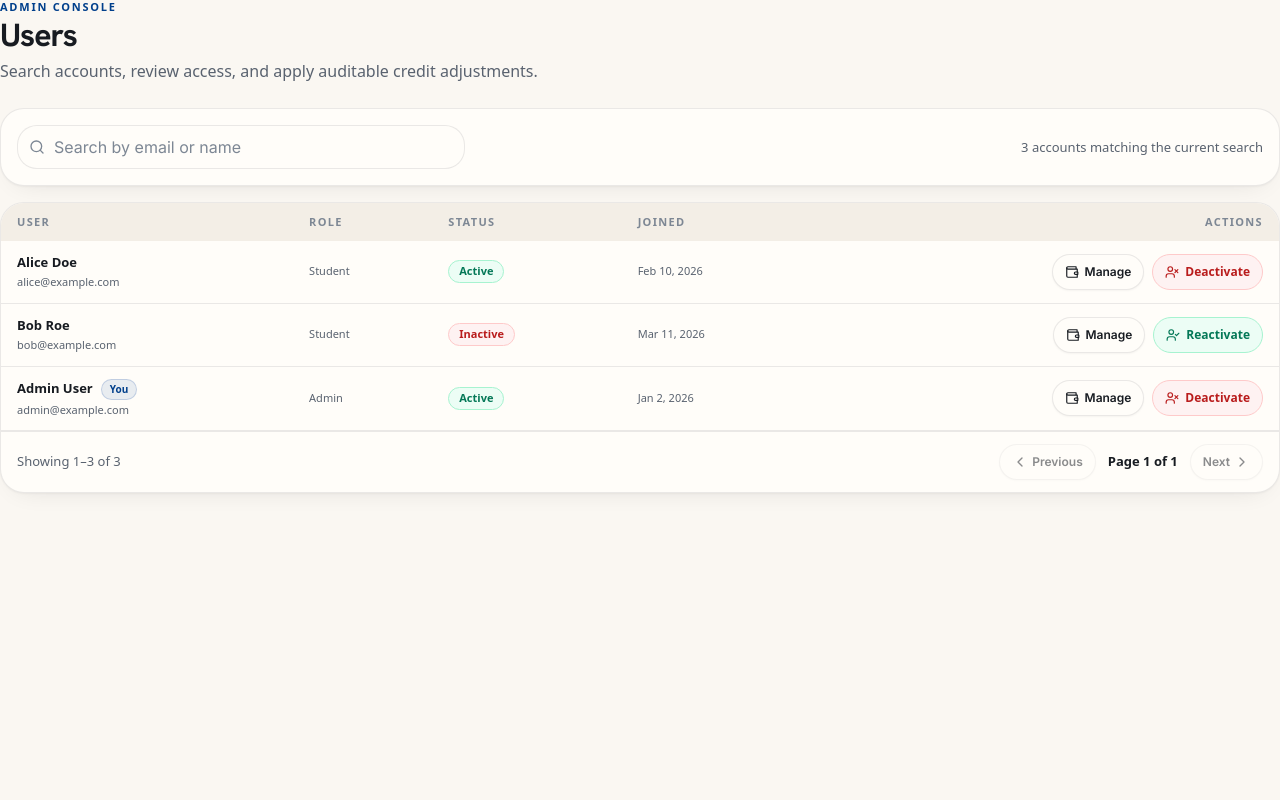
Scenario: AdminUsersPage › shows a toast when the backend rejects self-deactivation
Expected: the text "Admin User" is shown, 17,379 -> 93,399
Click the button with aria-label "deactivate admin@example.com" at (1208, 398), box 1152,380 -> 1263,416
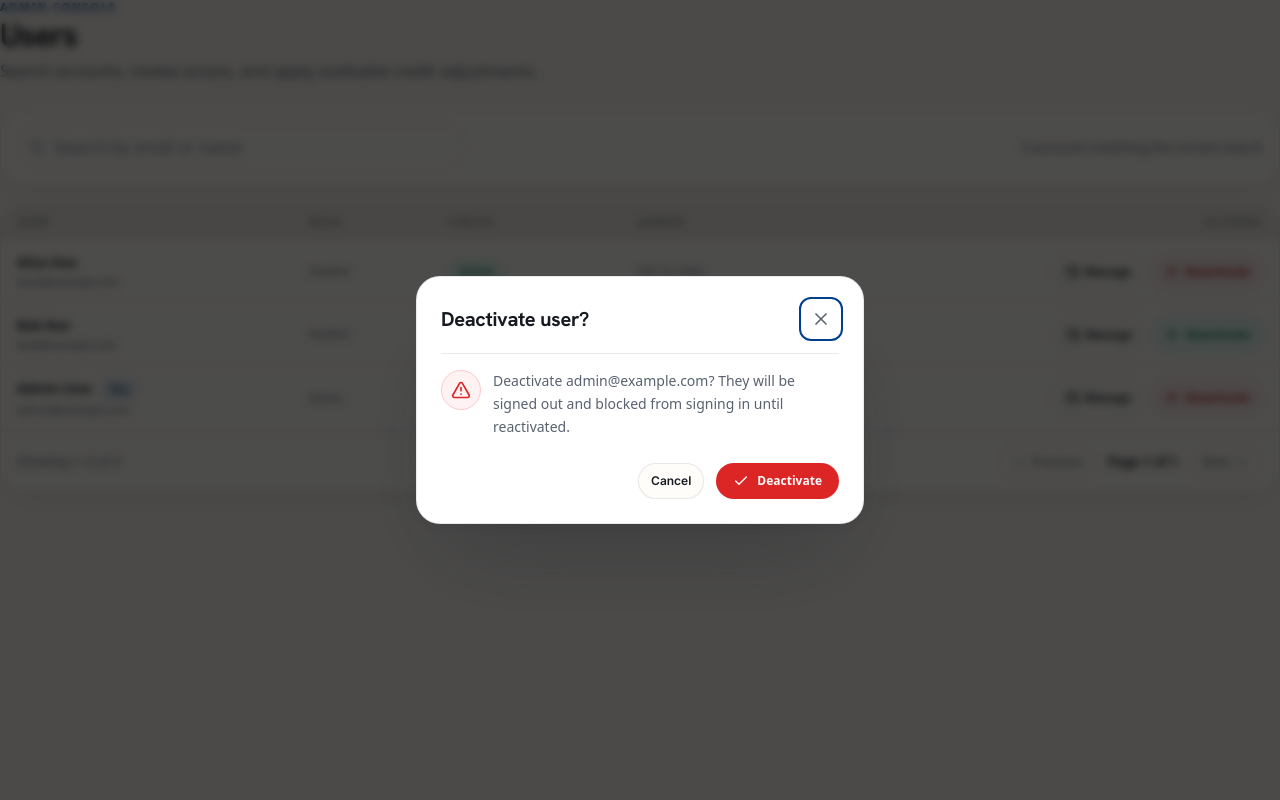
Click the button "Deactivate" at (778, 481), box 716,463 -> 839,499
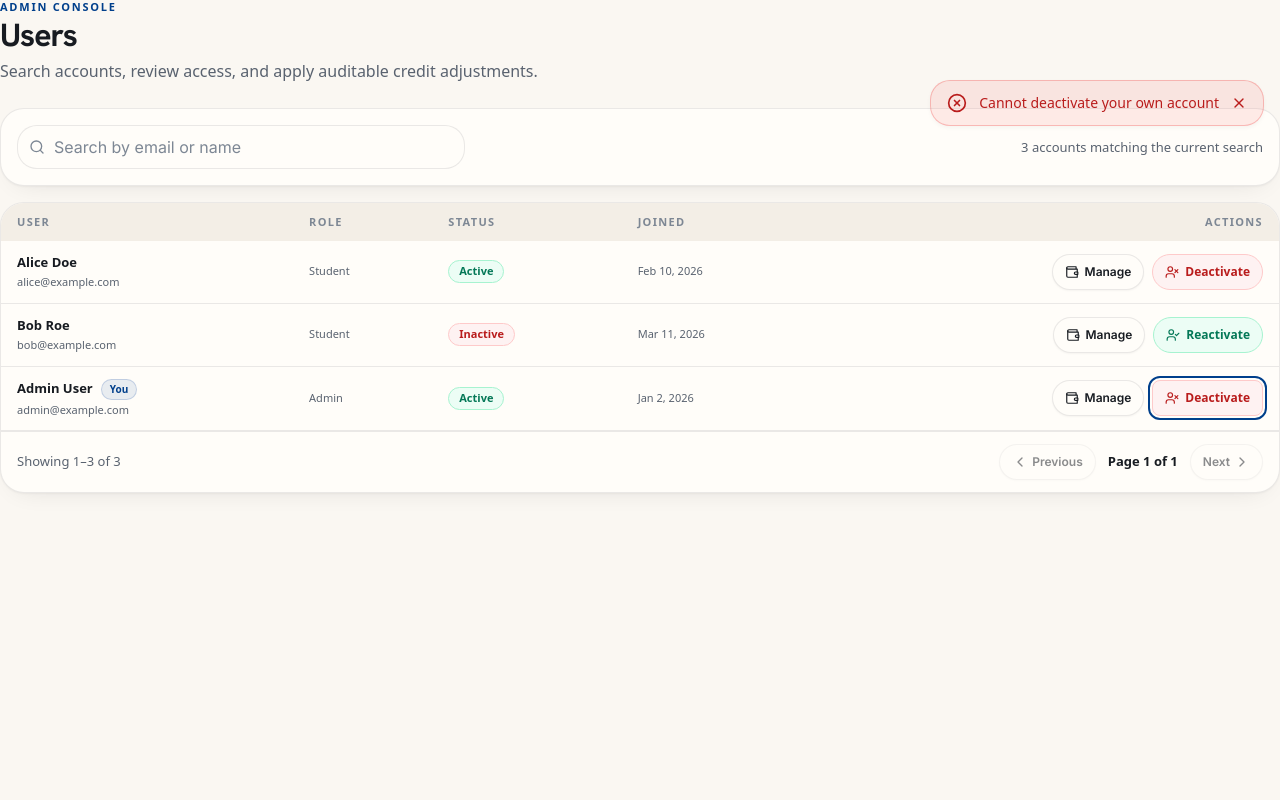
Expected: the text "Cannot deactivate your own account" is shown, 979,93 -> 1219,113
